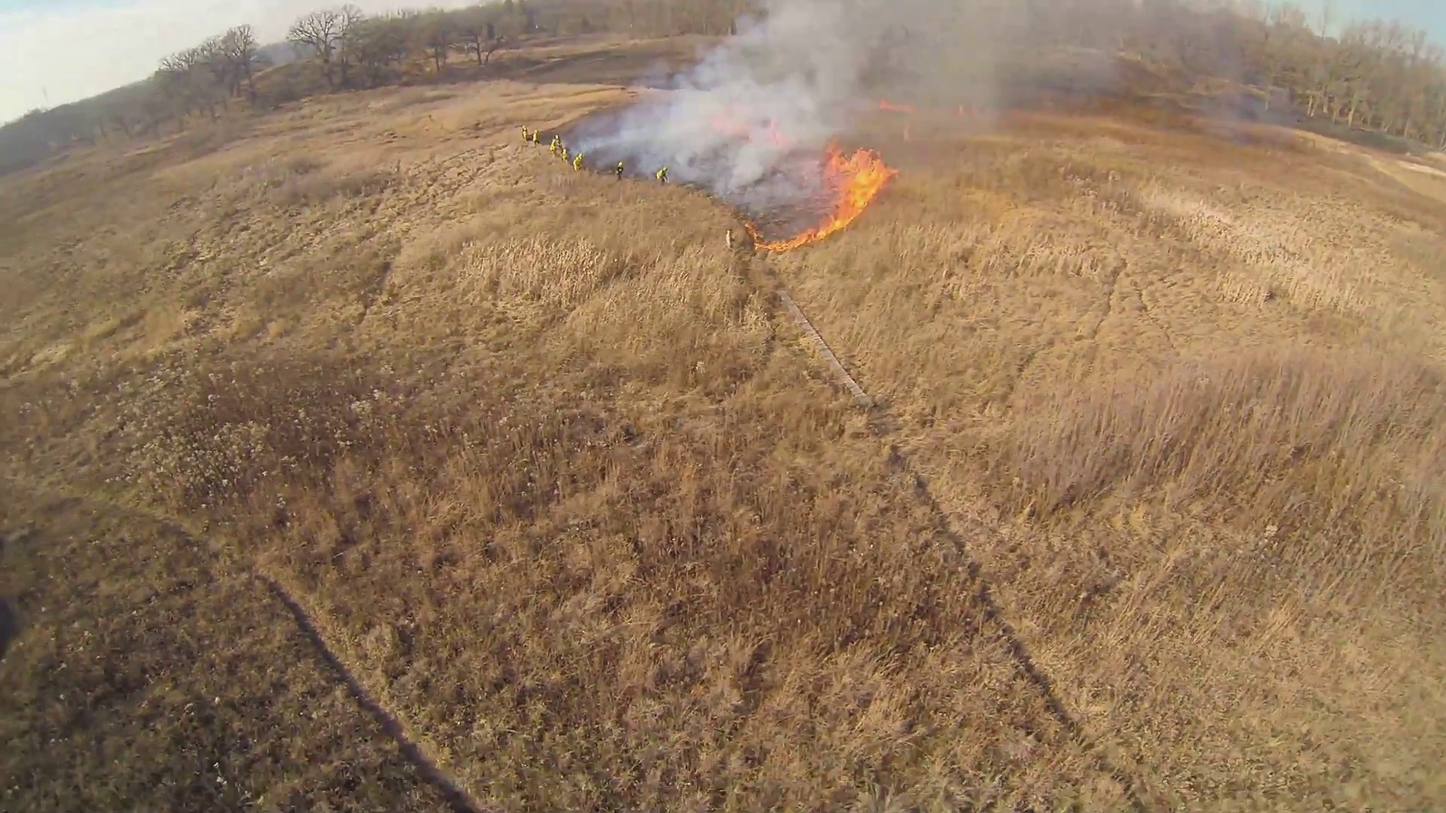forest_fire: (745, 142, 896, 251)
